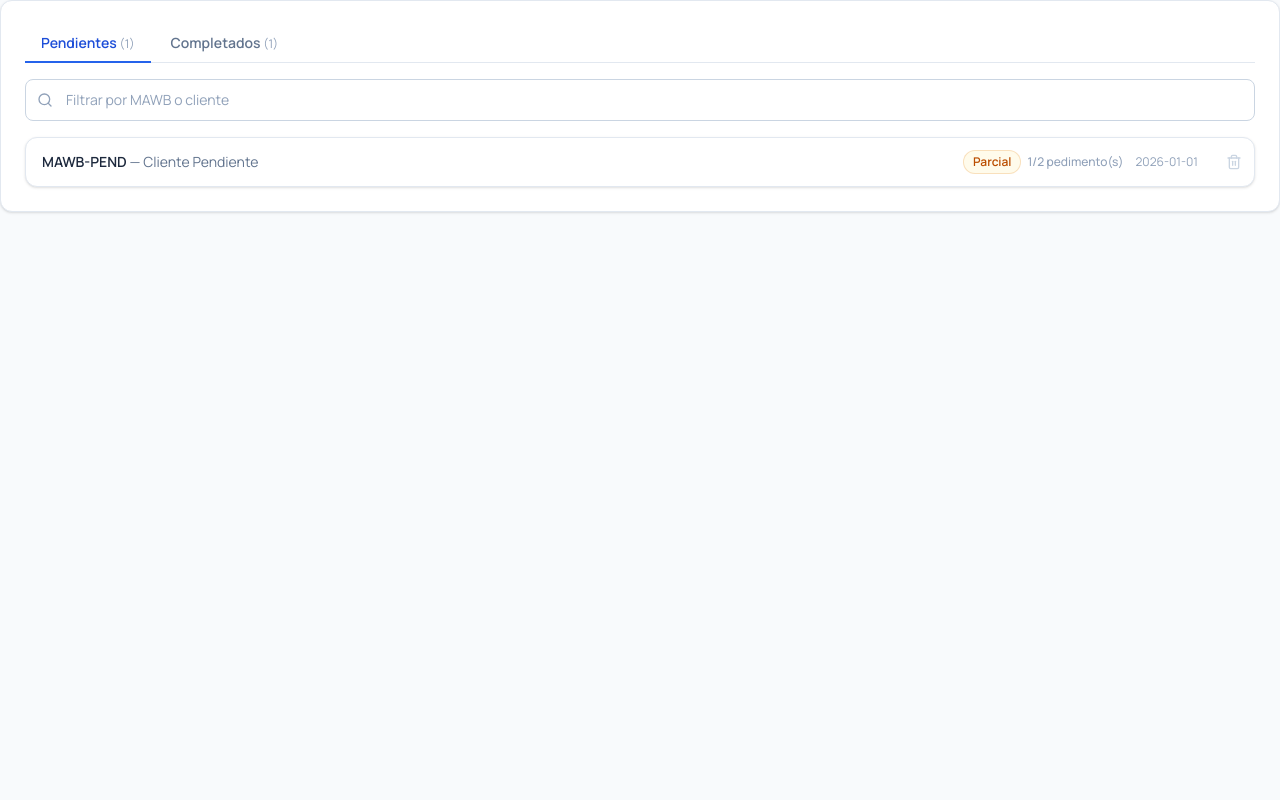
Test: SeguimientoView › selecting a manifest opens the capture workspace with the manifest header + stepper + its pedimentos
Click the text "MAWB-PEND": (84, 162) [42, 152, 127, 171]
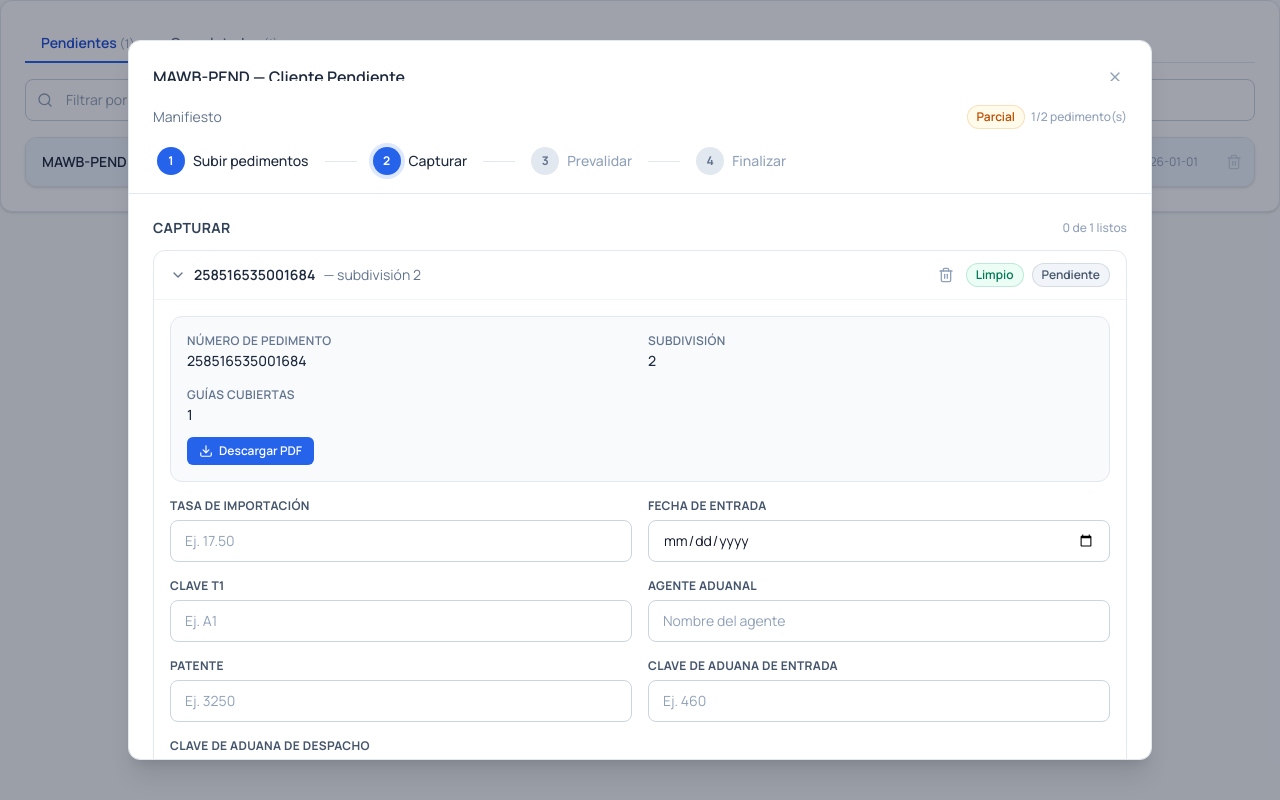
Now the dialog is shown
Now the heading "MAWB-PEND — Cliente Pendiente" is shown, box [153, 65, 405, 89]
Now the text "Subir pedimentos" is shown, box [193, 151, 308, 171]
